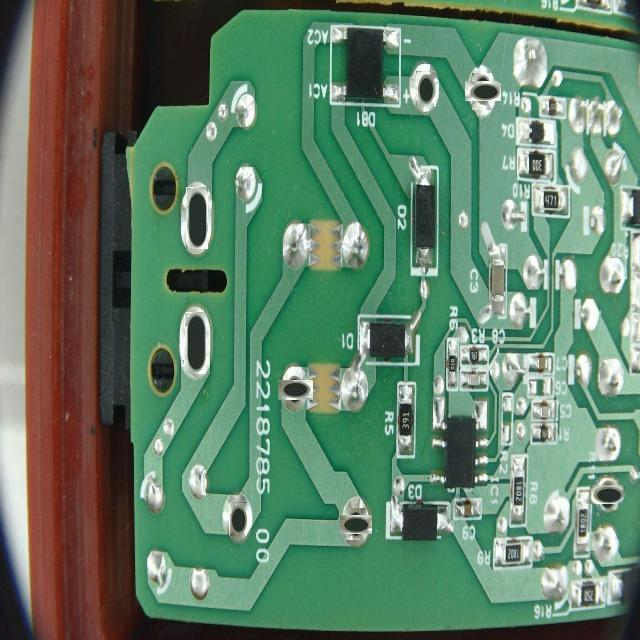damged: (184, 312, 206, 374), (186, 188, 208, 250), (468, 77, 497, 106), (281, 376, 309, 404), (594, 481, 622, 508), (416, 71, 436, 107), (343, 511, 369, 537), (229, 502, 247, 536)
